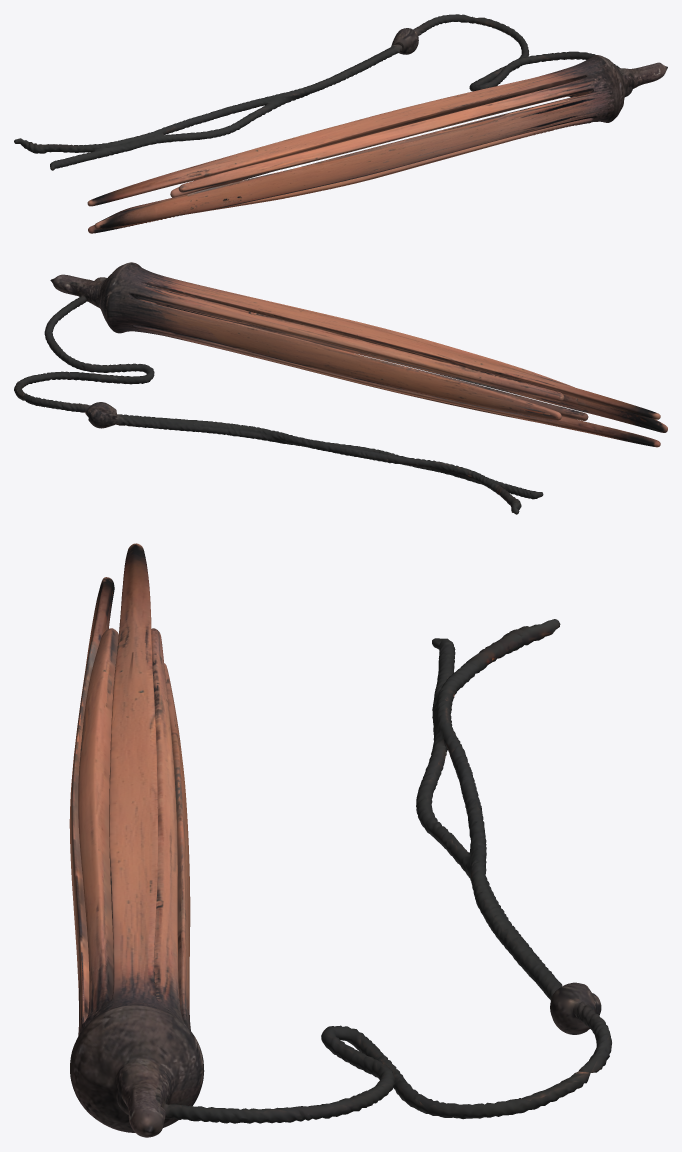
Rendered from papua-pegunungan.glb.
3 renders of one model, top to bottom at view 1: azimuth 30°, elevation 25°; view 2: azimuth 150°, elevation 25°; view 3: azimuth 270°, elevation 25°, orthographic. The views are drawn at different scales.
Visible parts, largest first — view 1: node_0; view 2: node_0; view 3: node_0.
Boxes of the visible parts, box(x1,y1,x2,y2) form: node_0: box(14, 14, 667, 233); node_0: box(14, 262, 667, 514); node_0: box(69, 543, 611, 1137).
Bounding box in the file's own units: 1.13 × 0.1176 × 0.4561.
1 material, 1 textured.
